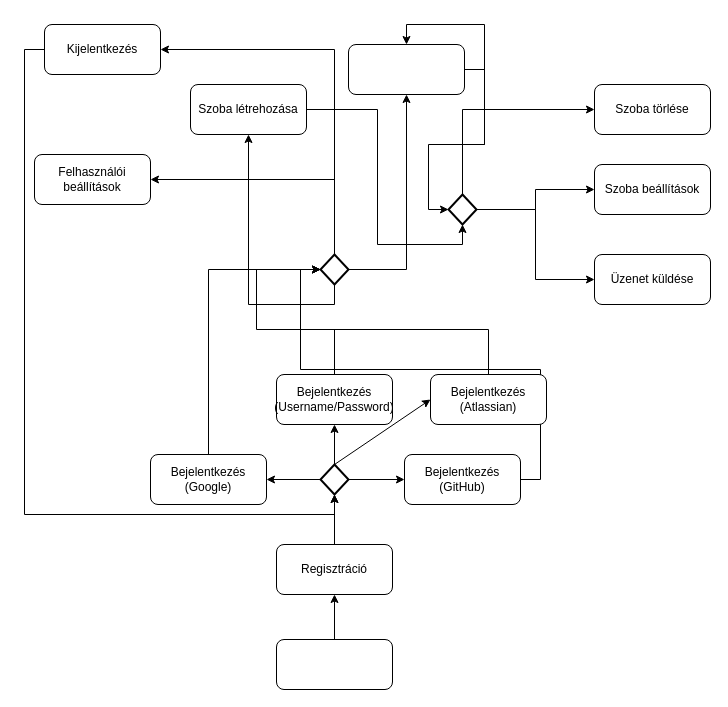
The diagram is 728 pixels wide and 707 high, and some of its shapes have lost their labels. Each missing label, with the centre of its shape:
"Csatlakozás meglévő szobákhoz" belongs at point (406, 69).
"Felhasználó" belongs at point (334, 664).
